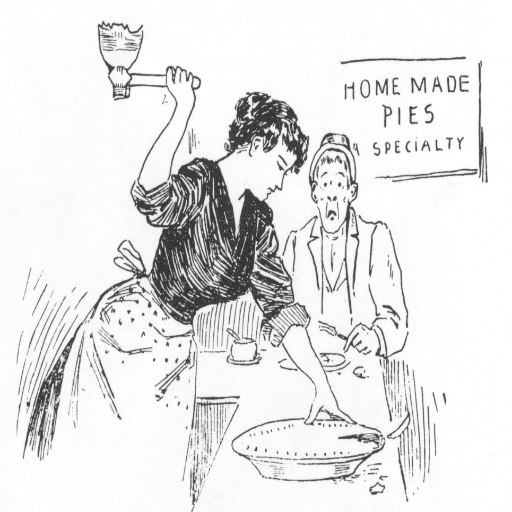hand: (148, 51, 194, 108), (302, 392, 358, 424), (341, 321, 377, 357)
